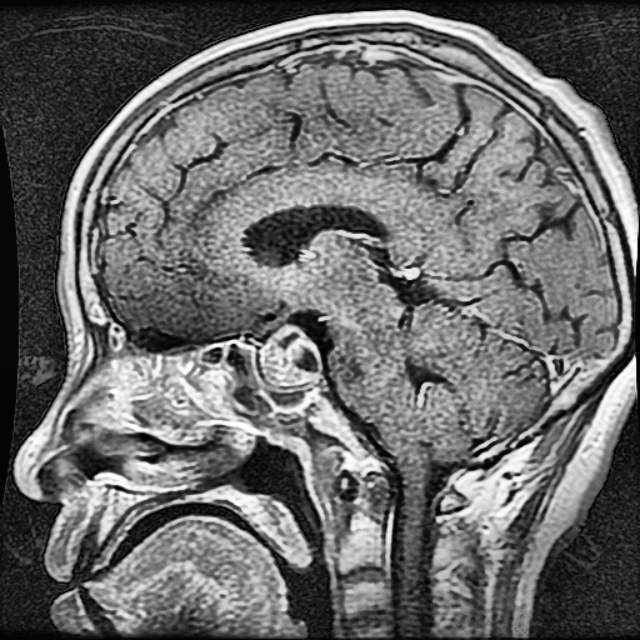Pituitary: (259, 324, 322, 394)
